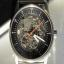watch: (9, 3, 57, 64)
